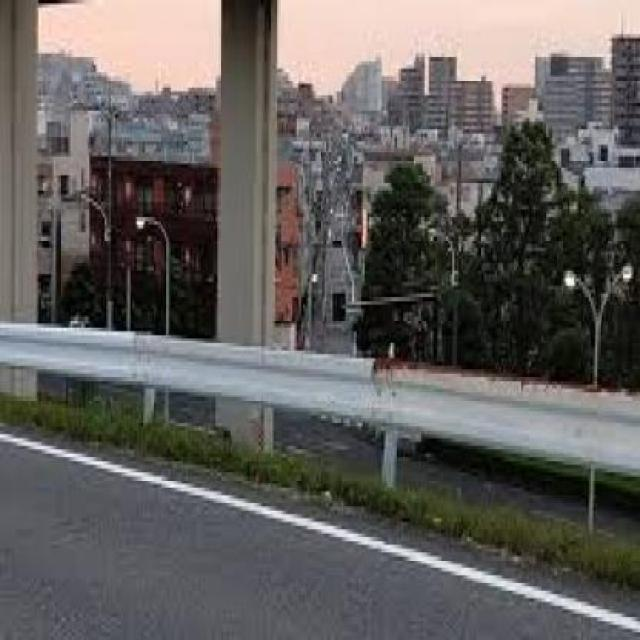Guard rail: (0, 310, 640, 572)
